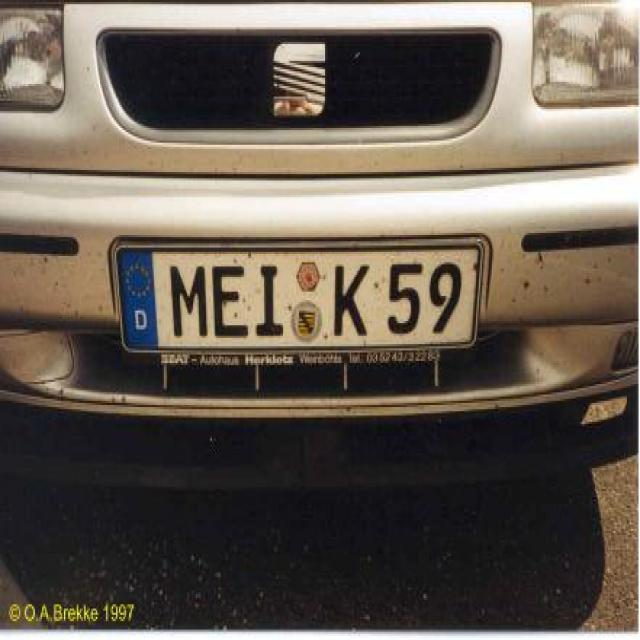license-plates: (115, 238, 487, 363)
